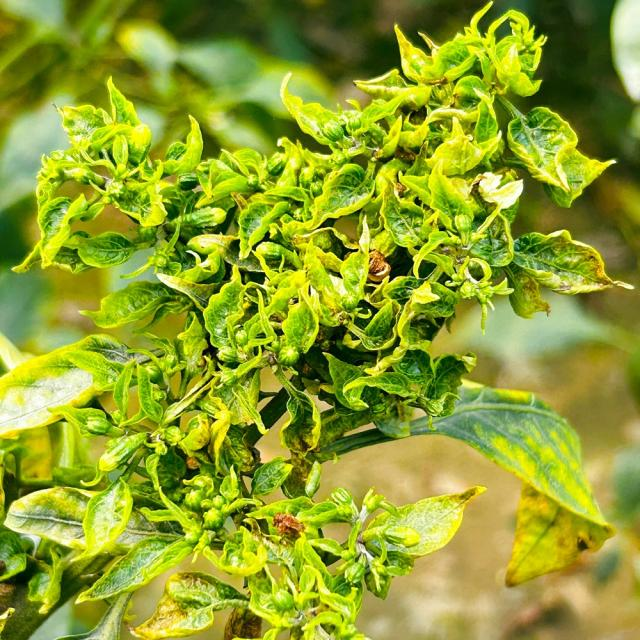Chilli_Leaf_Curl: (1, 1, 633, 638), (312, 377, 616, 588), (298, 482, 487, 600), (0, 332, 153, 439)
